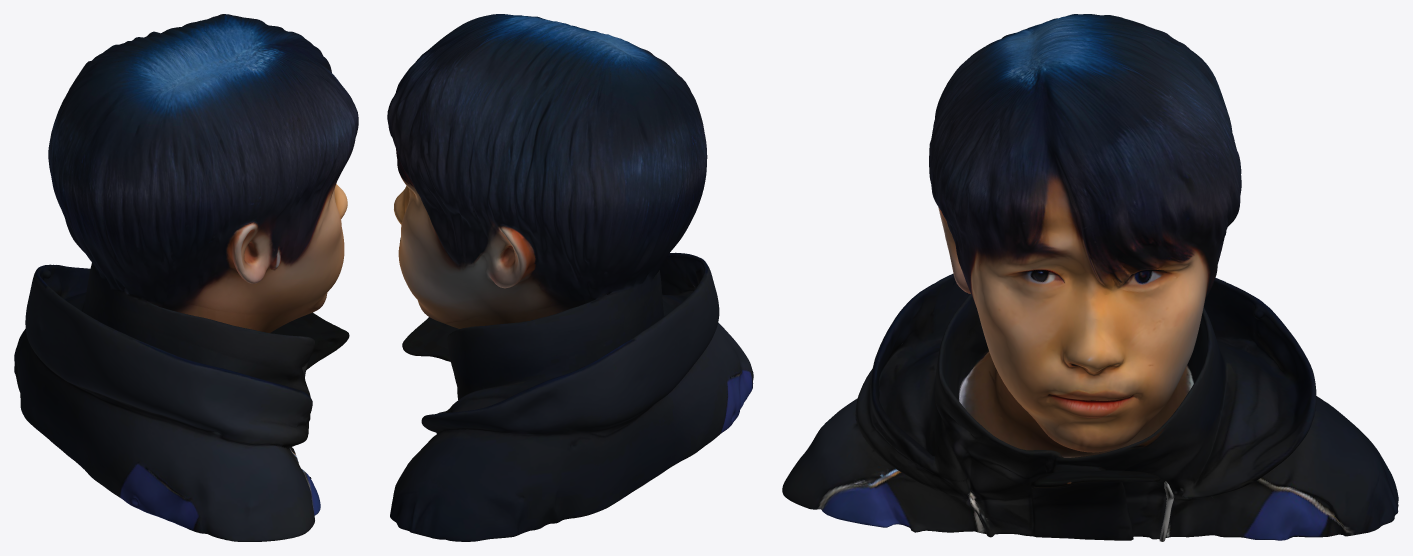
File: murase_statue_bust_70k_raw.glb
3 views of the same model, side by side, from view 1: azimuth 30°, elevation 25°; view 2: azimuth 150°, elevation 25°; view 3: azimuth 270°, elevation 25° (orthographic). The views are drawn at different scales.
Parts seen in each view (by area): view 1: tripo_node_bba7a30d-5157-4be9-b252-8813802013a0; view 2: tripo_node_bba7a30d-5157-4be9-b252-8813802013a0; view 3: tripo_node_bba7a30d-5157-4be9-b252-8813802013a0.
Boxes of the visible parts, x1,y1,x2,y2 form: tripo_node_bba7a30d-5157-4be9-b252-8813802013a0: (14, 14, 358, 541); tripo_node_bba7a30d-5157-4be9-b252-8813802013a0: (387, 14, 753, 541); tripo_node_bba7a30d-5157-4be9-b252-8813802013a0: (782, 14, 1398, 541).
Bounding box in the file's own units: 0.6254 × 0.8524 × 1.
1 material, 1 textured.
